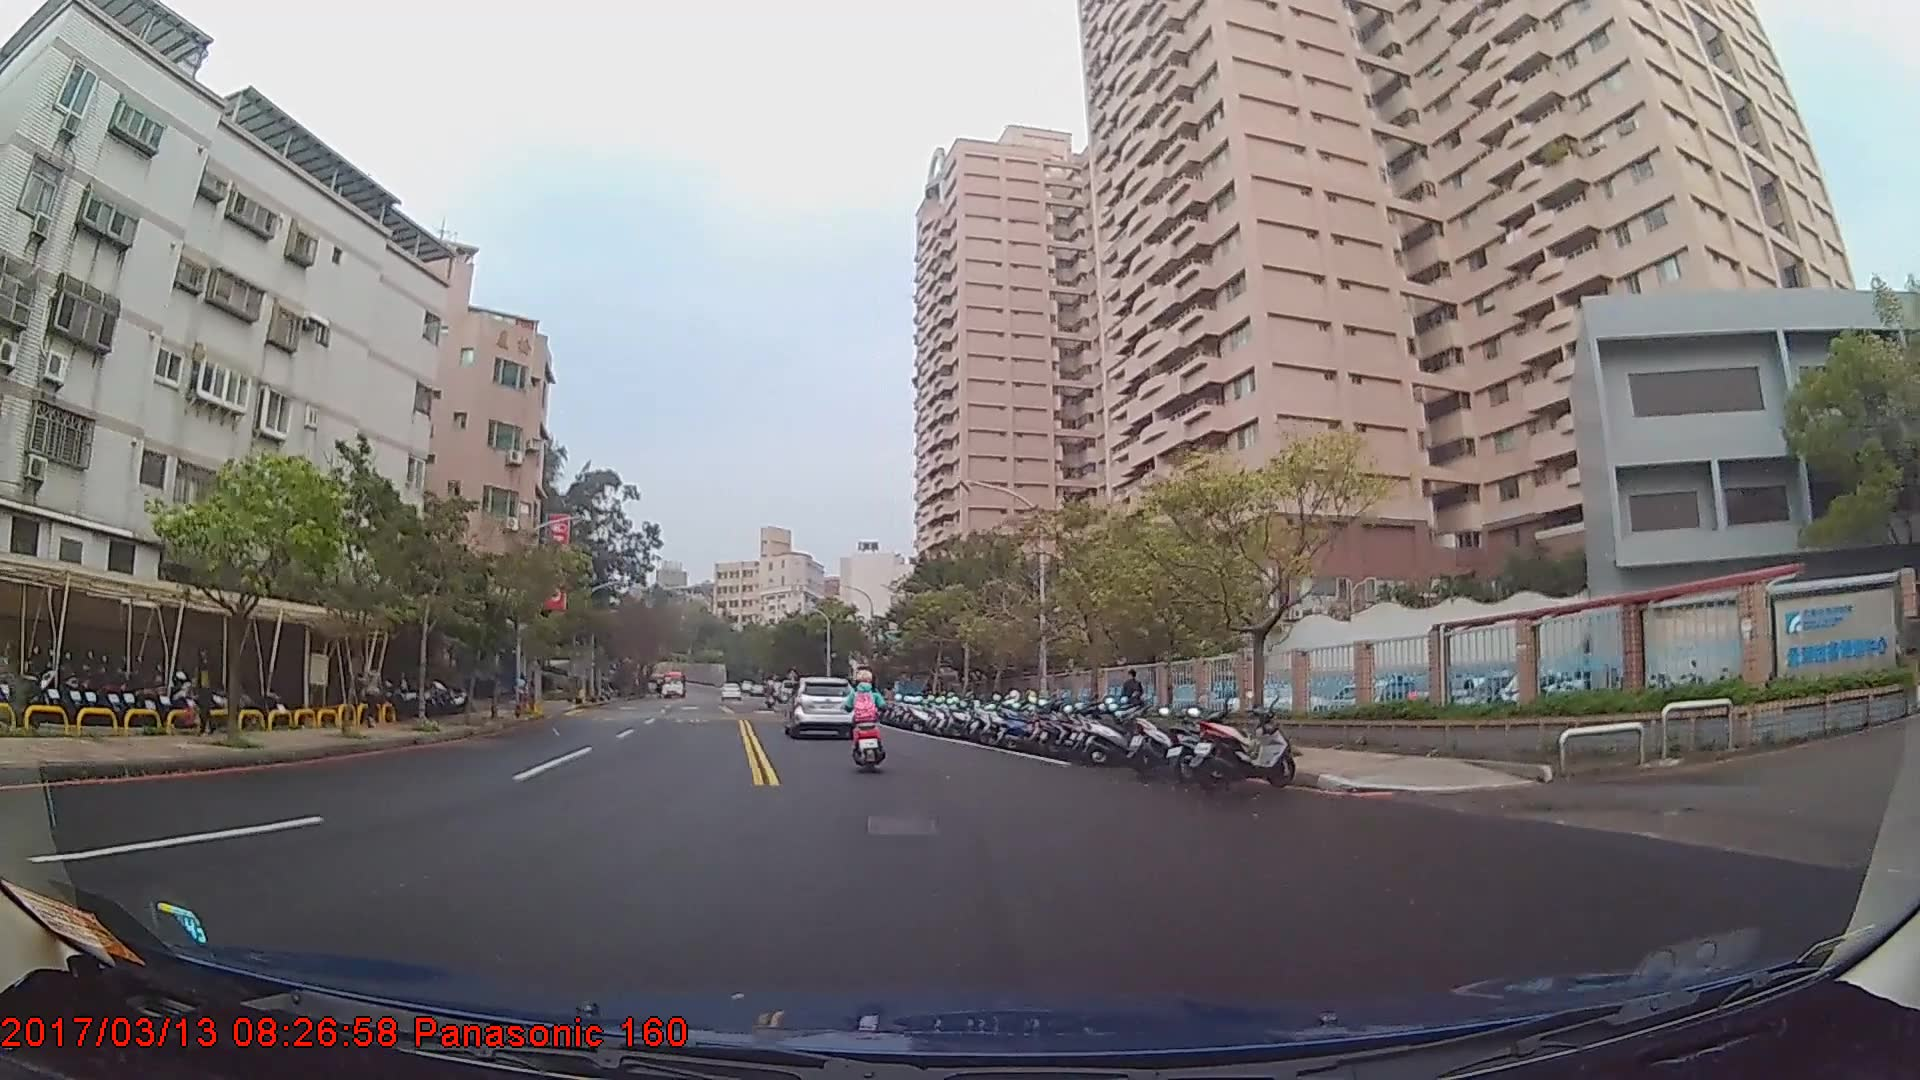pedestrian: (190, 641, 223, 738), (359, 657, 384, 730), (1121, 669, 1148, 735)
rider: (848, 668, 889, 769)
vehicle: (786, 673, 854, 737), (657, 668, 688, 698)
